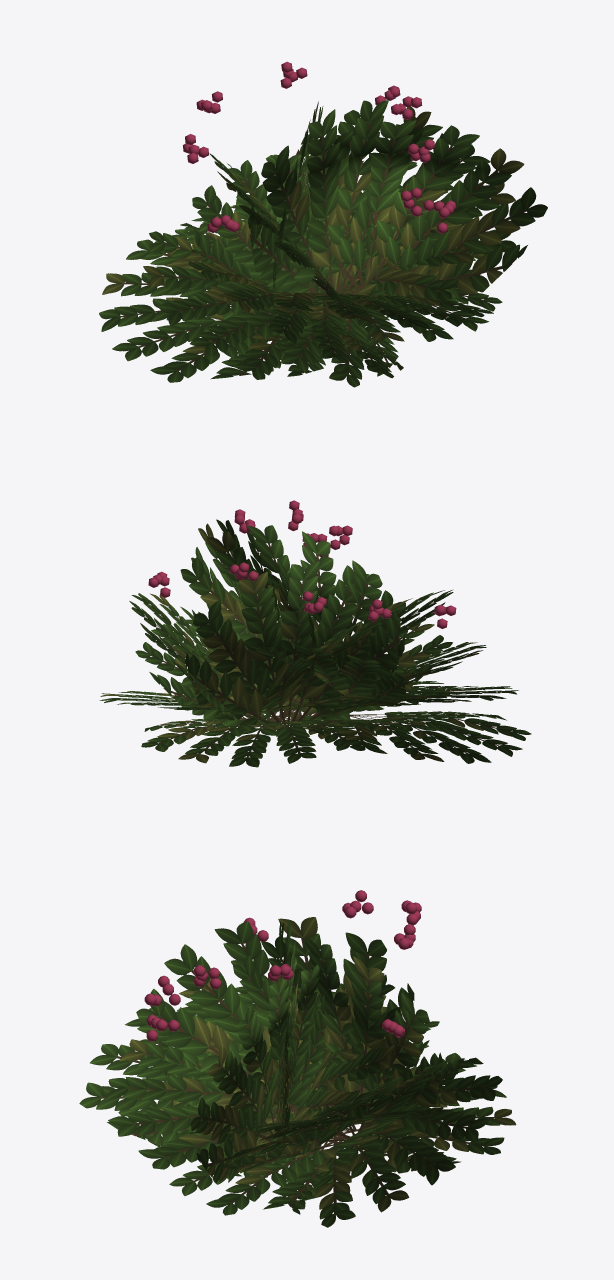
The model's file is RES_BerryPlant_01.fbx.
The picture shows the model from 3 angles, top to bottom: view 1: azimuth 30°, elevation 25°; view 2: azimuth 150°, elevation 25°; view 3: azimuth 270°, elevation 25°; orthographic projection. The views are drawn at different scales.
Visible parts, largest first — view 1: RES_BerryPlant_01; view 2: RES_BerryPlant_01; view 3: RES_BerryPlant_01.
Boxes of the visible parts, x1,y1,x2,y2 form: RES_BerryPlant_01: (99,61,547,387); RES_BerryPlant_01: (99,500,531,767); RES_BerryPlant_01: (79,890,516,1227).
Size of the model in its own units: 2.96 by 1.6 by 2.58.
